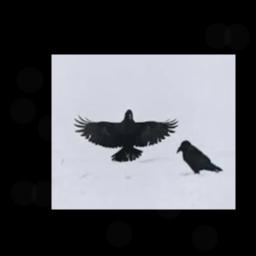Crow: (73, 108, 178, 162), (176, 139, 222, 173)
